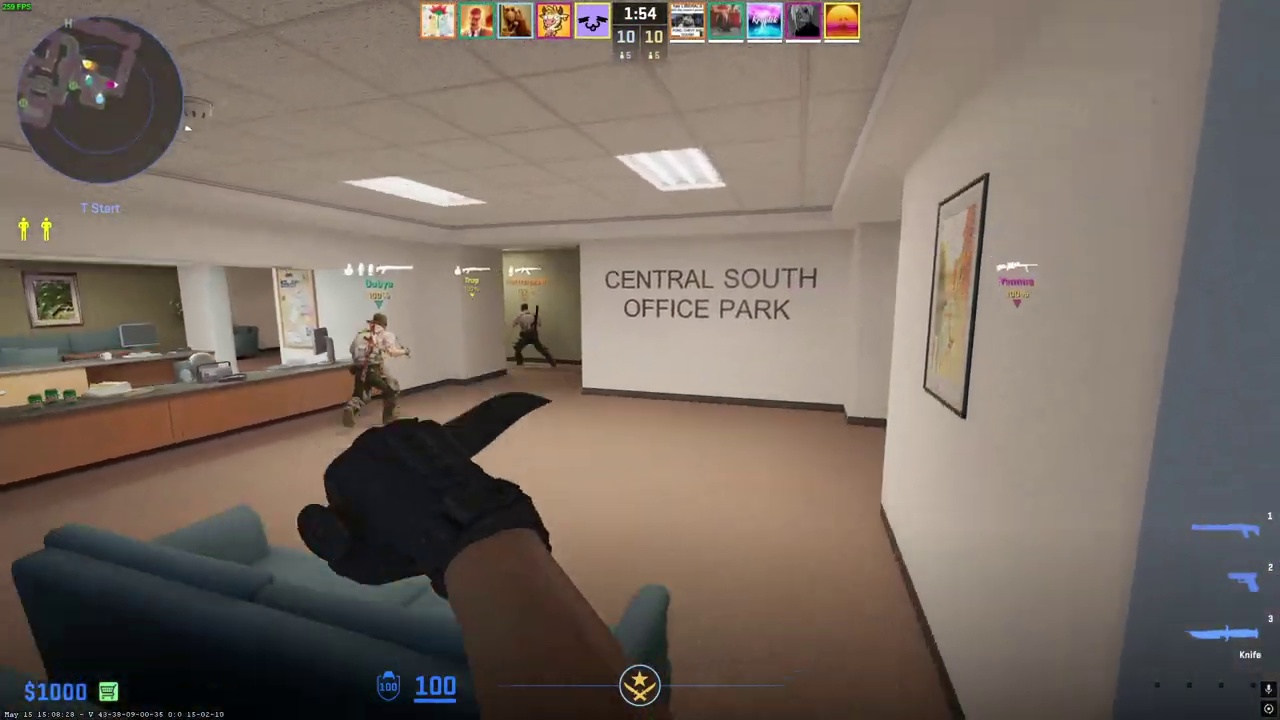Terrorist: (344, 312, 400, 428), (510, 303, 551, 368)
